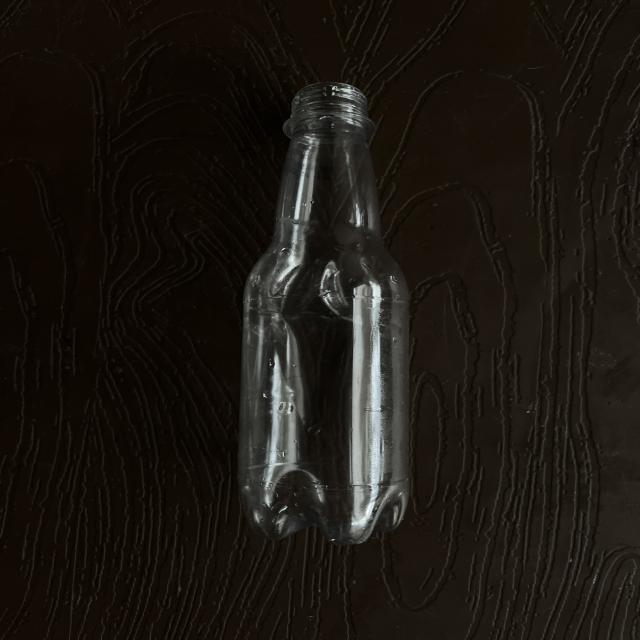PET_With_Liquid: (239, 112, 408, 543)
